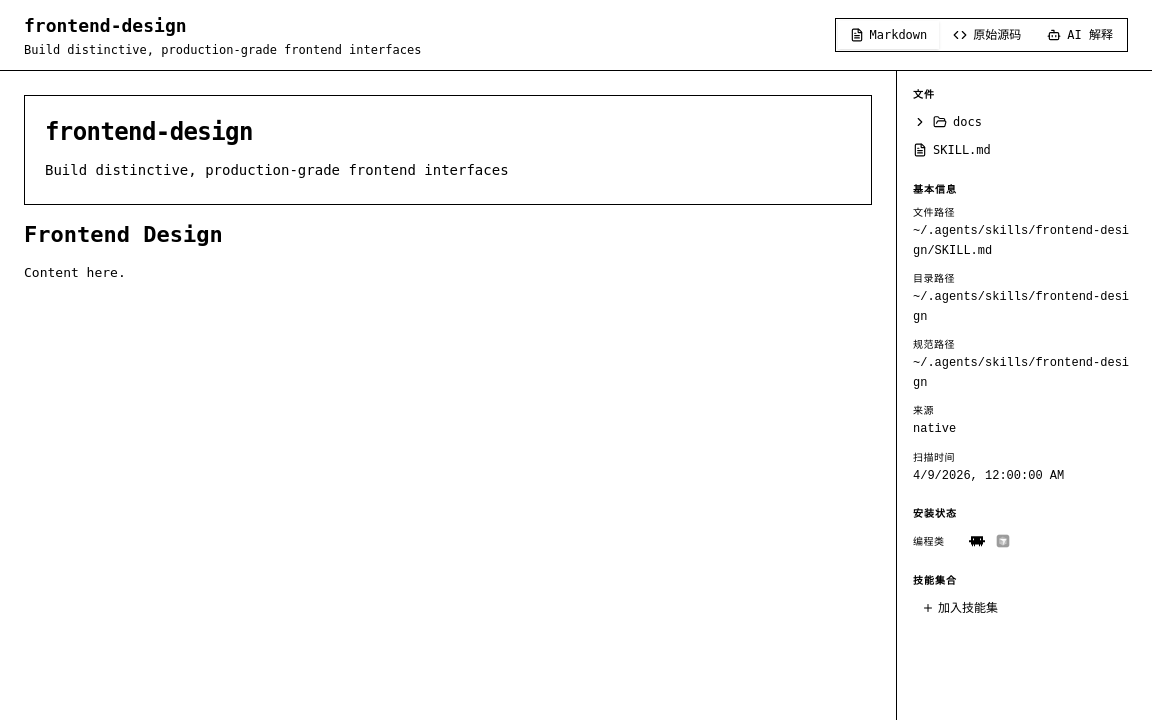
SkillDetailView › shows file tree above metadata and keeps directories collapsed by default
Expected: the text "docs" is shown, x1=953 y1=114 x2=982 y2=130
Expected: the button "SKILL.md" is shown, x1=913 y1=138 x2=1136 y2=162
Click the button "docs".
click(1024, 122)  # box x1=913 y1=110 x2=1136 y2=134
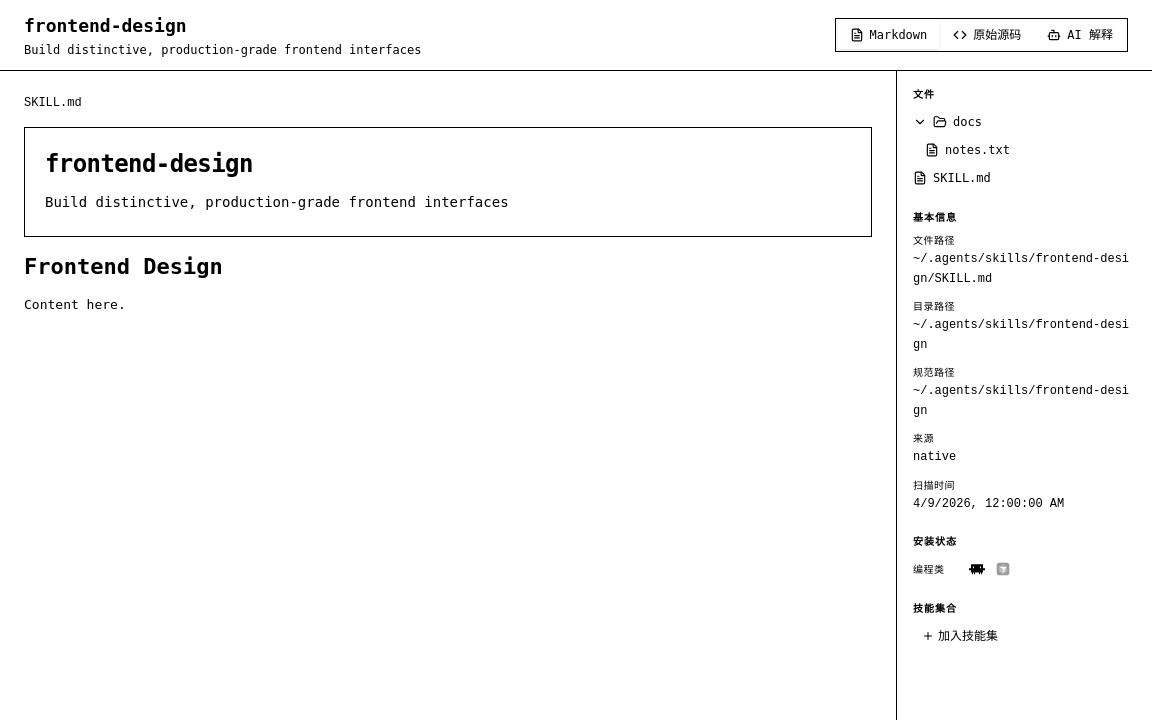
Result: the button "docs" is expanded at x1=913 y1=110 x2=1136 y2=134
Result: the button "notes.txt" is shown at x1=913 y1=138 x2=1136 y2=162
